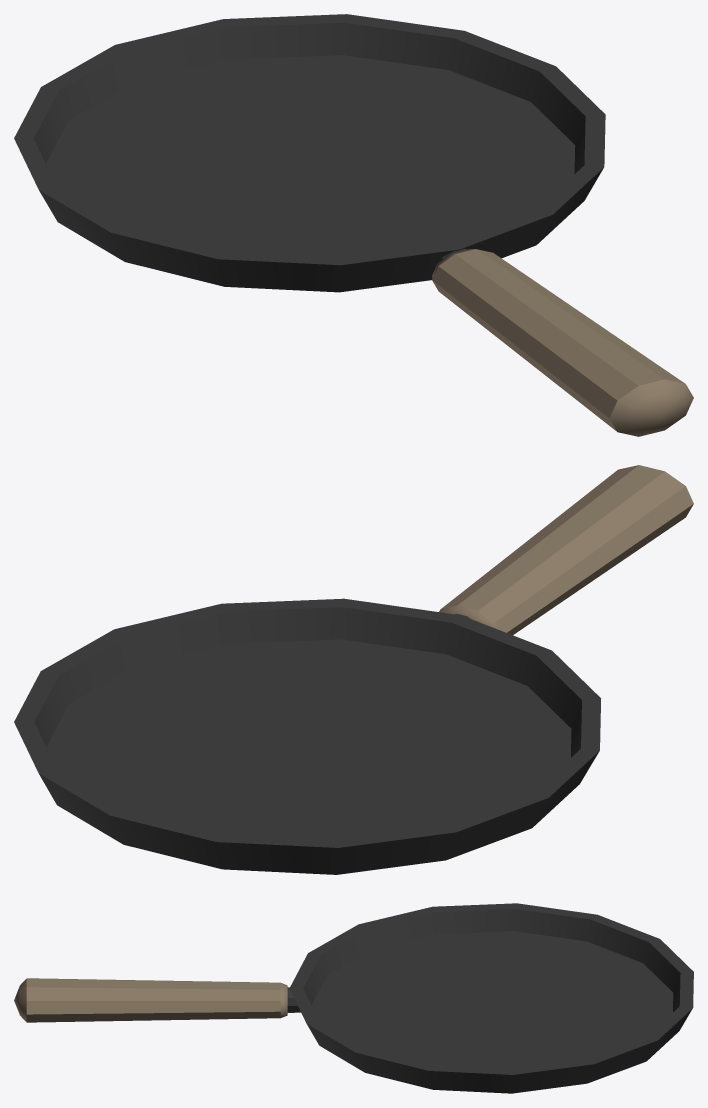
The model's file is huraipann.fbx.
3 renders of one model, top to bottom at view 1: azimuth 30°, elevation 25°; view 2: azimuth 150°, elevation 25°; view 3: azimuth 270°, elevation 25°, orthographic. The views are drawn at different scales.
Parts seen in each view (by area): view 1: pCylinder9, pCylinder8; view 2: pCylinder9, pCylinder8; view 3: pCylinder9, pCylinder8.
Boxes of the visible parts, left/top/right/bottom form: pCylinder9: left=14, top=14, right=605, bottom=292; pCylinder8: left=432, top=249, right=693, bottom=436; pCylinder9: left=14, top=598, right=600, bottom=874; pCylinder8: left=439, top=465, right=693, bottom=635; pCylinder9: left=287, top=903, right=693, bottom=1093; pCylinder8: left=14, top=978, right=287, bottom=1022.
Size of the model in its own units: 0.7996 by 0.0759 by 1.34.
